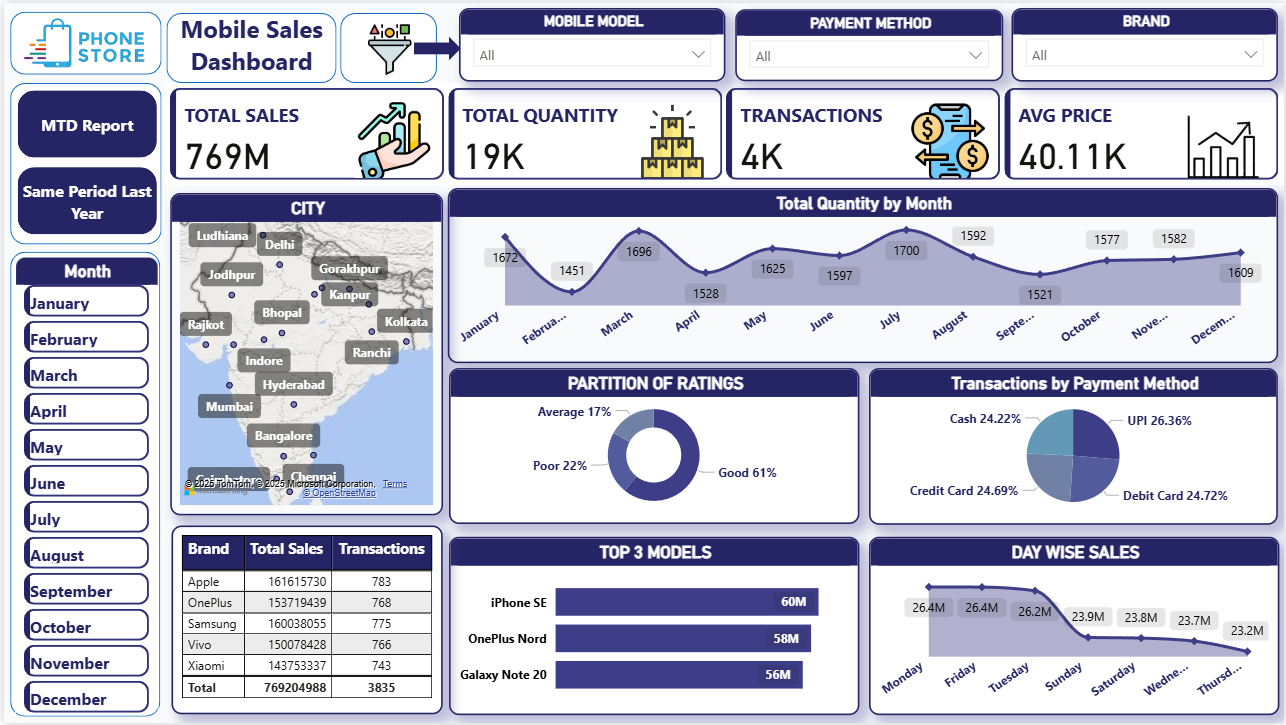

The page's visual inventory and layout, read from the dashboard file:
{"tool":"powerbi","page":{"name":"Dashboard","canvas":[1280,720],"ordinal":1},"visuals":[{"type":"shape","box":[5.7,8.6,151.4,62.9],"z":0},{"type":"shape","box":[5.7,80,151.4,161.4],"z":1000},{"type":"shape","box":[6.7,249.2,150,465],"z":2000},{"type":"image","box":[14.3,0,134.3,80],"z":3000},{"type":"cardVisual","fields":{"Data":["Sales Data.Total_Sales","Sales Data.Total_Quantity","Sales Data.Transactions","Sales Data.Average_Price"]},"box":[161.7,79.6,1118.4,102.5],"z":4000},{"type":"slicer","title":"MOBILE MODEL","fields":{"Values":["Sales Data.Mobile Model"]},"box":[454.8,4.8,266.6,73.6],"z":5000},{"type":"slicer","title":"PAYMENT METHOD","fields":{"Values":["Sales Data.Payment Method"]},"box":[731.1,6,267.8,72.4],"z":6000},{"type":"slicer","title":"BRAND","fields":{"Values":["Sales Data.Brand"]},"box":[1007.4,4.8,266.6,73.6],"z":7000},{"type":"shape","box":[336.7,10,96.7,70],"z":8000},{"type":"image","box":[332.2,14.4,106.7,63.3],"z":9000},{"type":"shape","box":[410,33.3,46.7,23.3],"z":10000},{"type":"shape","box":[162.2,10,170,70],"z":11000},{"type":"textbox","box":[160,5,175,82.5],"z":12000},{"type":"map","title":"CITY","fields":{"Category":["Sales Data.City"]},"box":[166.2,190,272.5,322.5],"z":13000},{"type":"areaChart","title":"Total Quantity by Month","fields":{"Category":["Custom Calendar.Date.Variation.Date Hierarchy.Month"],"Y":["Sales Data.Total_Quantity"]},"box":[444,184.6,830,174.9],"z":14000},{"type":"advancedSlicerVisual","fields":{"Values":["Custom Calendar.Date.Variation.Date Hierarchy.Month"]},"box":[10.9,253.4,143.6,466.9],"z":15000},{"type":"donutChart","title":"PARTITION OF RATINGS","fields":{"Category":["Sales Data.Rating Status"],"Y":["CountNonNull(Sales Data.Customer Ratings)"]},"box":[445.2,365.6,410.2,155.6],"z":16000},{"type":"pieChart","fields":{"Y":["Sales Data.Transactions"],"Category":["Sales Data.Payment Method"]},"box":[865,365.6,409,156.8],"z":17000},{"type":"clusteredBarChart","title":"TOP 3 MODELS","fields":{"Category":["Sales Data.Mobile Model"],"Y":["Sales Data.Total_Sales"]},"box":[445,533.3,410,178.3],"z":18000},{"type":"areaChart","title":"DAY WISE SALES","fields":{"Y":["Sales Data.Total_Sales"],"Category":["Custom Calendar.Day Name"]},"box":[865,533.3,410,178.3],"z":19000},{"type":"pageNavigator","box":[10,81.1,146.7,160],"z":20000},{"type":"tableEx","fields":{"Values":["Sales Data.Brand","Sales Data.Total_Sales","Sales Data.Transactions"]},"box":[167.5,522.5,271.2,188.8],"z":21000},{"type":"pageNavigator","box":[13.3,88.1,139.9,146],"z":22000}]}

Visuals, with their boxes in screenshot pixels (x1, y1, x2, y2), scaled from the page's 1280x720 canvas onto the 1286x725 screenshot:
shape: crop(6, 9, 158, 72)
shape: crop(6, 81, 158, 243)
shape: crop(7, 251, 157, 719)
image: crop(14, 0, 149, 81)
cardVisual - Sales Data.Total_Sales x Sales Data.Total_Quantity: crop(162, 80, 1285, 183)
"MOBILE MODEL" slicer: crop(457, 5, 725, 79)
"PAYMENT METHOD" slicer: crop(735, 6, 1004, 79)
"BRAND" slicer: crop(1012, 5, 1280, 79)
shape: crop(338, 10, 435, 81)
image: crop(334, 14, 441, 78)
shape: crop(412, 34, 459, 57)
shape: crop(163, 10, 334, 81)
textbox: crop(161, 5, 337, 88)
"CITY" map: crop(167, 191, 441, 516)
"Total Quantity by Month" areaChart: crop(446, 186, 1280, 362)
advancedSlicerVisual - Custom Calendar.Date.Variation.Date Hierarchy.Month: crop(11, 255, 155, 724)
"PARTITION OF RATINGS" donutChart: crop(447, 368, 859, 525)
pieChart - Sales Data.Transactions x Sales Data.Payment Method: crop(869, 368, 1280, 526)
"TOP 3 MODELS" clusteredBarChart: crop(447, 537, 859, 717)
"DAY WISE SALES" areaChart: crop(869, 537, 1281, 717)
pageNavigator: crop(10, 82, 157, 243)
tableEx - Sales Data.Brand x Sales Data.Total_Sales: crop(168, 526, 441, 716)
pageNavigator: crop(13, 89, 154, 236)
